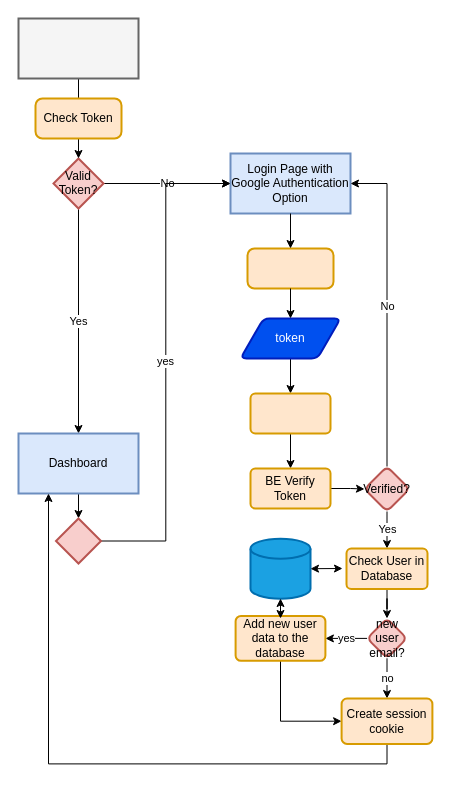
This 450x789 diagram has some shape labels left out. Each missing label, with the box of its shape:
Database: (249, 537, 311, 599)
Request OAuth: (246, 247, 334, 289)
Send Token to BE: (249, 392, 331, 434)
token expires?: (54, 517, 102, 564)
User Landing: (17, 17, 139, 79)
